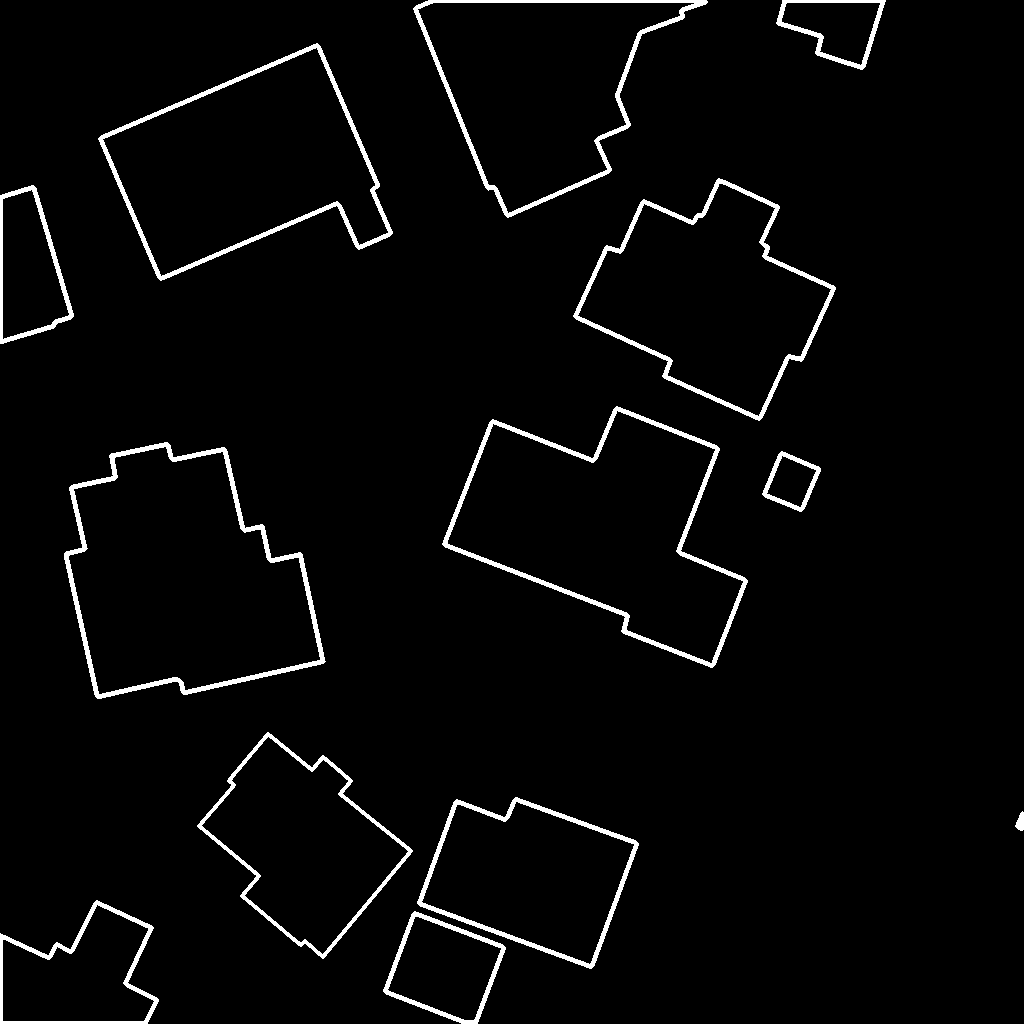building: (444, 408, 747, 667), (100, 45, 392, 280), (66, 444, 324, 698), (415, 0, 707, 217), (575, 180, 835, 420), (199, 734, 412, 958), (419, 799, 638, 968), (0, 902, 158, 1024), (385, 913, 505, 1024), (0, 187, 73, 343), (778, 0, 885, 69), (764, 453, 820, 511), (1017, 812, 1024, 830)
